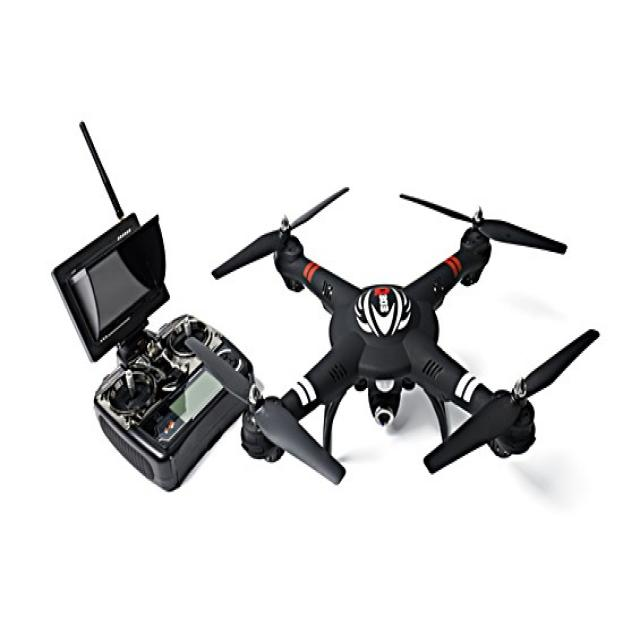drone: (228, 184, 579, 502)
